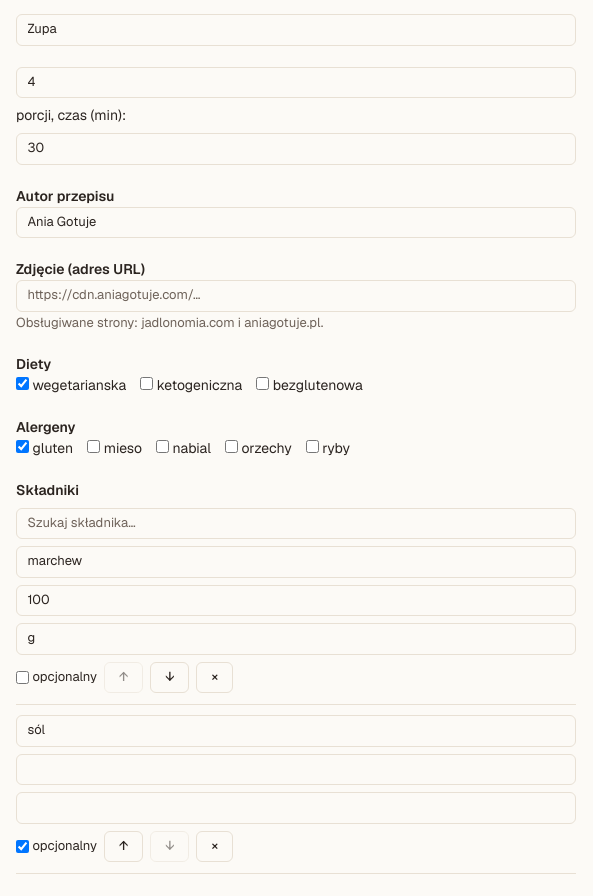
it: editing another member’s recipe › refuses a direct edit of the original with an error and changes nothing
The image size is (593, 896).
Replace the text in the field named "Nazwa przepisu" with "Przejęta zupa". click: (296, 30)
box: [16,14,576,46]
(page scrolled)
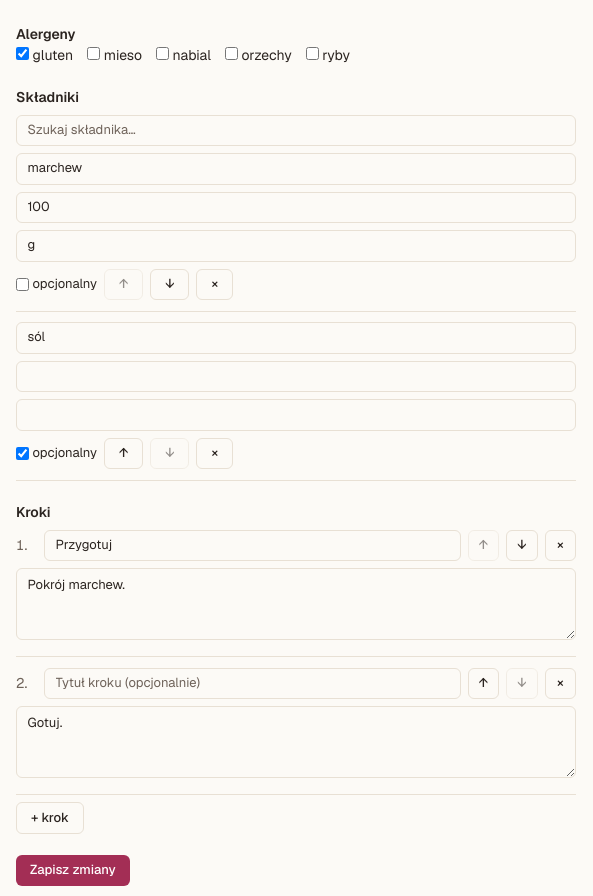
Click the button "Zapisz zmiany". click: (73, 871)
box: [16,855,130,886]
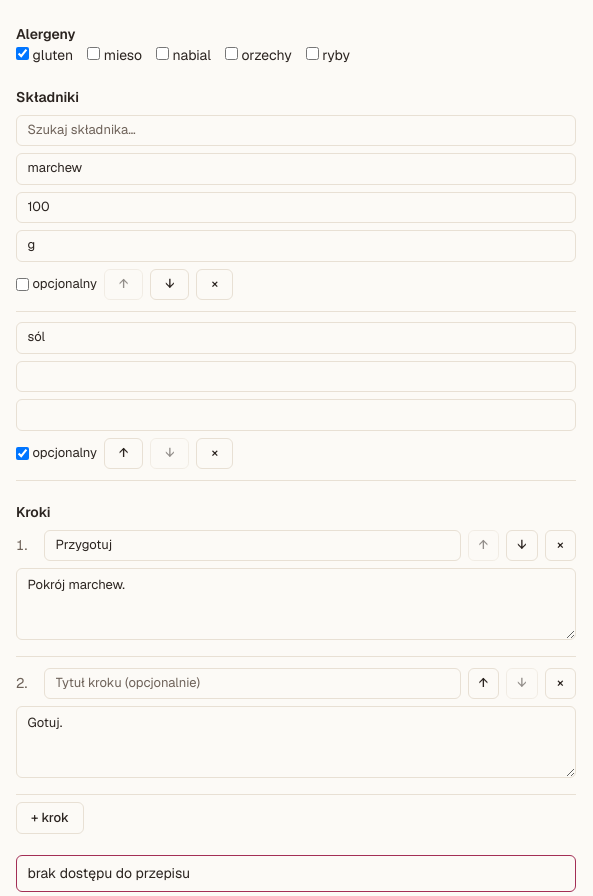
Check: the message reads "brak dostępu do przepisu", box [28,864,190,882]
